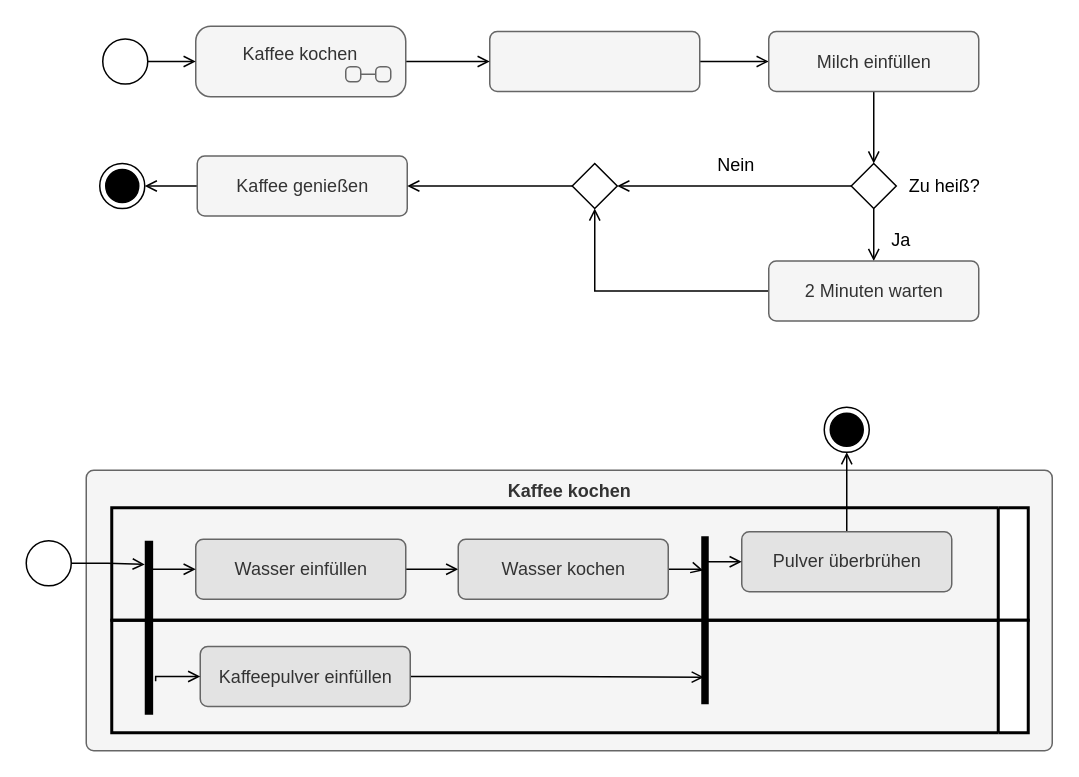
This 1079x777 diagram has some shape labels left out. Each missing label, with the centre of its shape:
Brühgruppe: point 569,563
Kaffee einfüllen: point 594,61
Pulverfach: point 569,676
